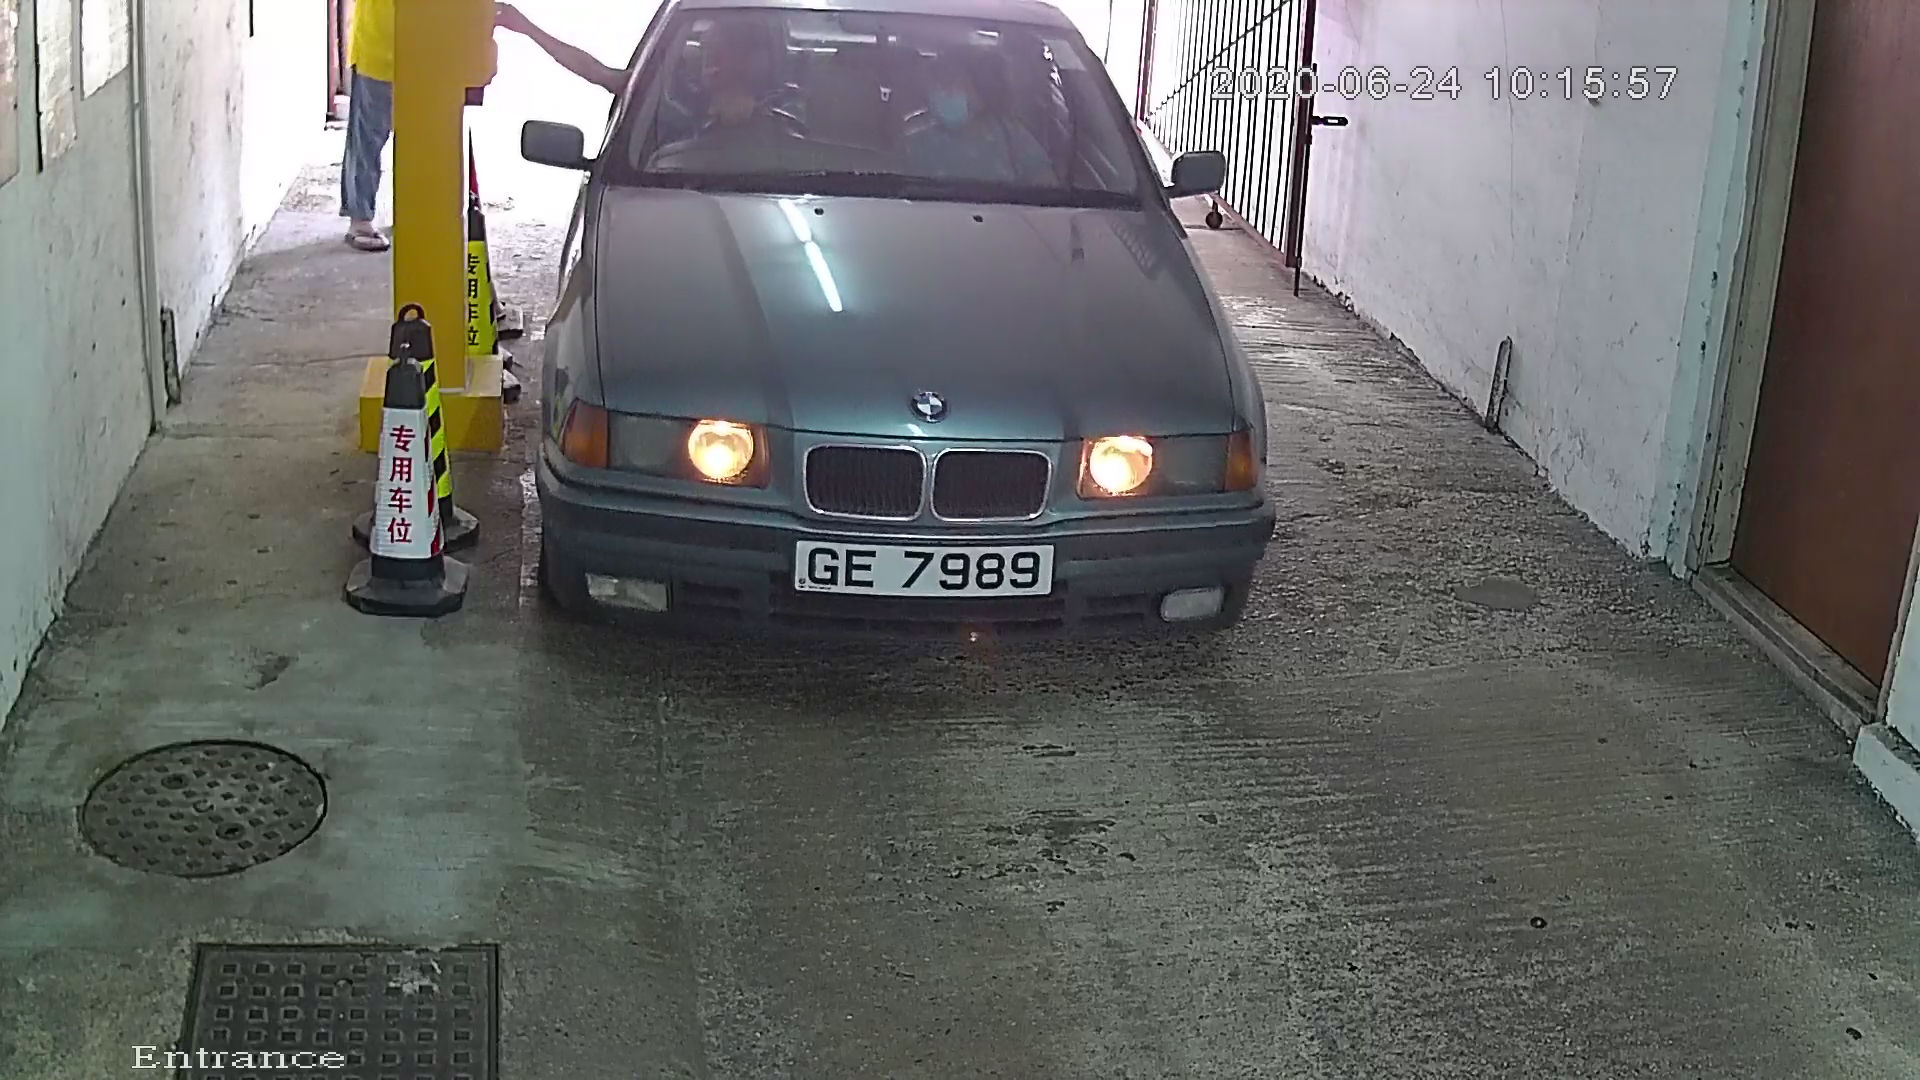Car: (482, 1, 1320, 708)
License Plate: (785, 530, 1061, 612)
